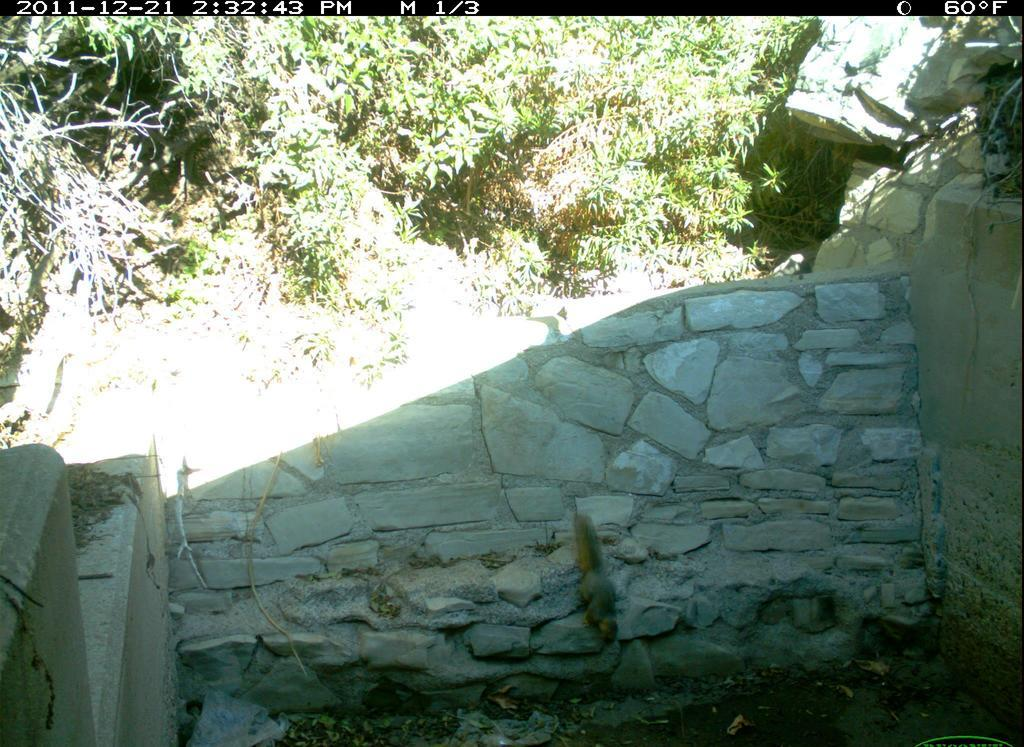squirrel: (570, 510, 633, 651)
